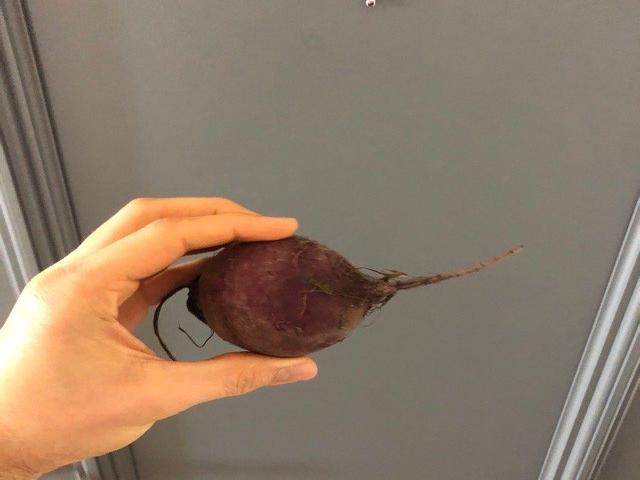beet: (155, 238, 531, 359)
